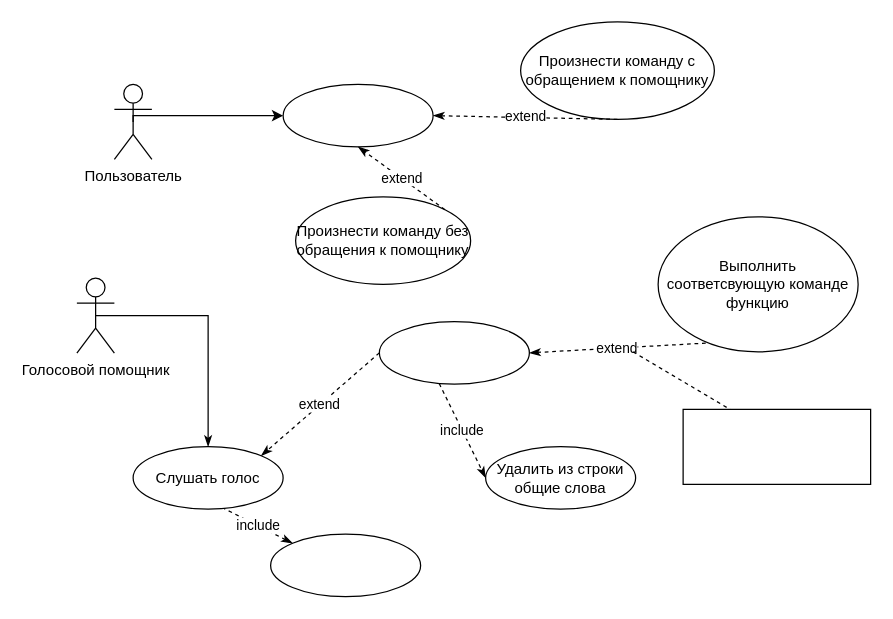
The diagram is 893 pixels wide and 619 high, and some of its shapes have lost their labels. The shapes that lost their labels are listed below. From the top down, each one's centre as x and y in pixels, then its label:
the point at 357,115: Произнести команду
the point at 453,352: Перевести голосовую команду в string строку
the point at 776,446: condition: {команда была произнесена с обращением к помощнику}
the point at 345,565: Запись голоса
